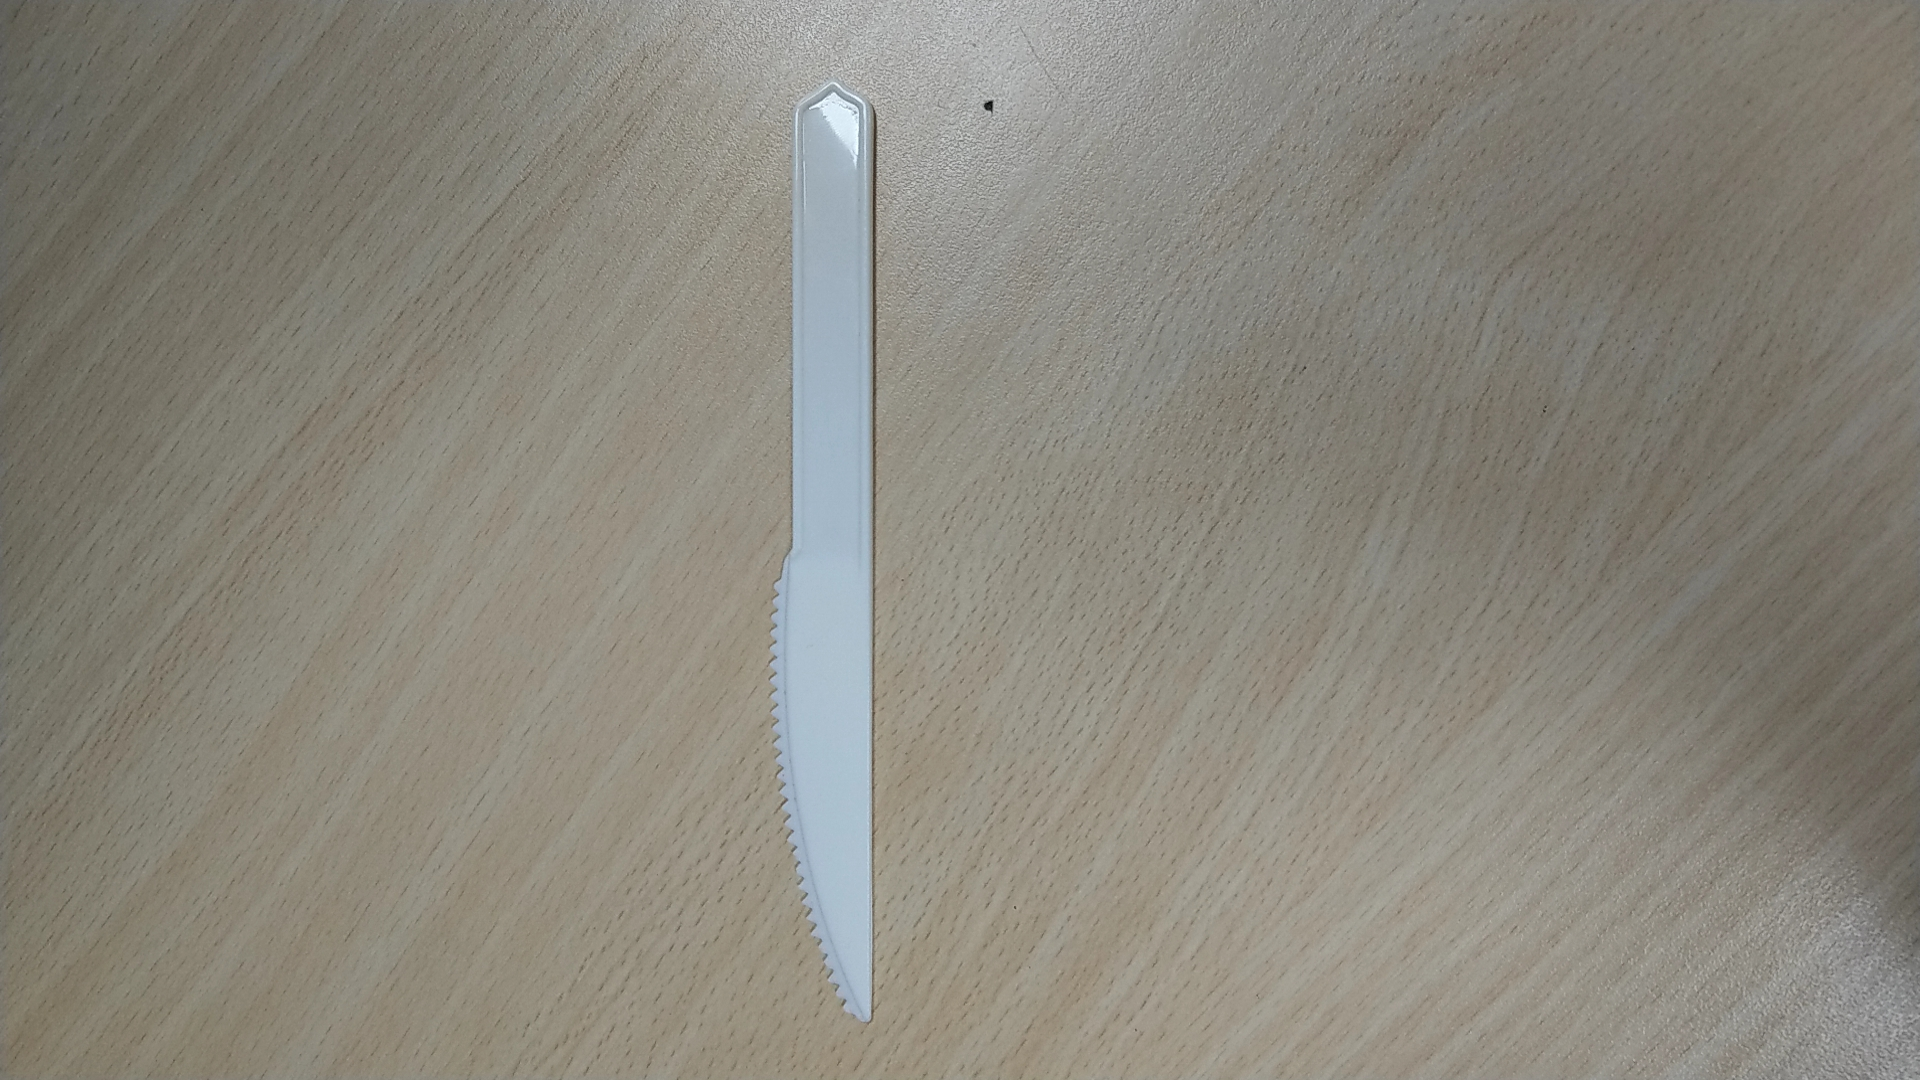knife: (740, 73, 928, 1034)
